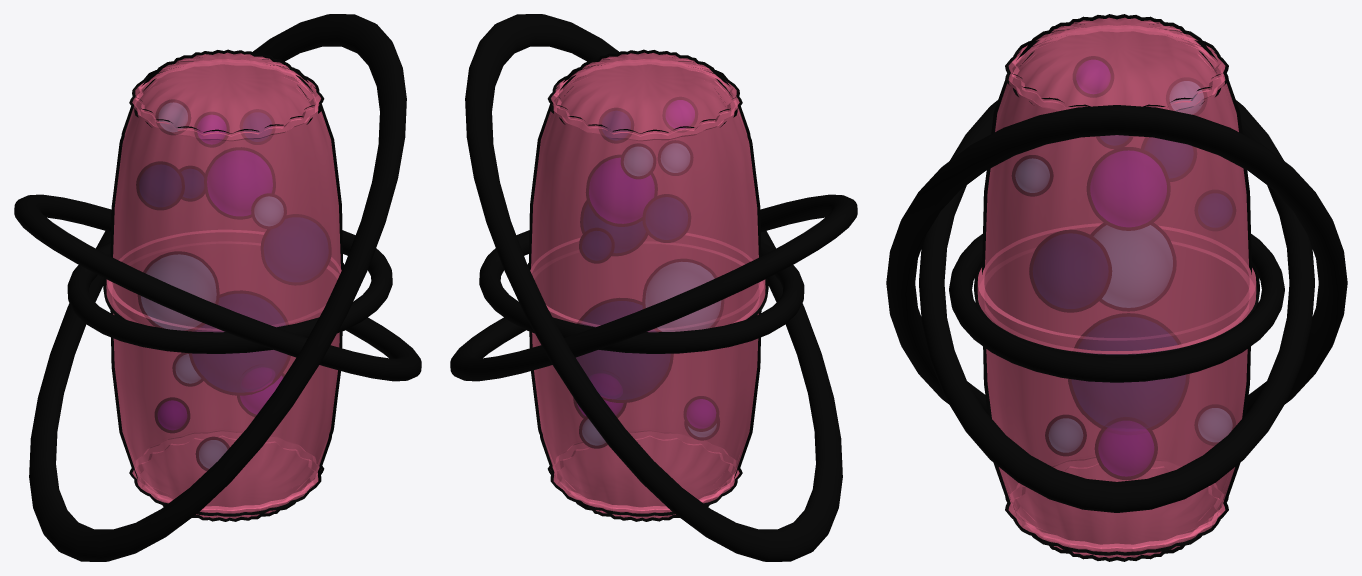
Rendered from Pill.fbx.
The picture shows the model from 3 angles, left to right: view 1: azimuth 30°, elevation 25°; view 2: azimuth 150°, elevation 25°; view 3: azimuth 270°, elevation 25°; orthographic projection. The views are drawn at different scales.
Parts seen in each view (by area): view 1: Pill; view 2: Pill; view 3: Pill.
Part boxes in pixels (x1=…): Pill: x1=14, y1=14, x2=421, y2=561; Pill: x1=450, y1=14, x2=857, y2=561; Pill: x1=886, y1=14, x2=1347, y2=561.
Bounding box in the file's own units: 90.53 × 106 × 83.87.
